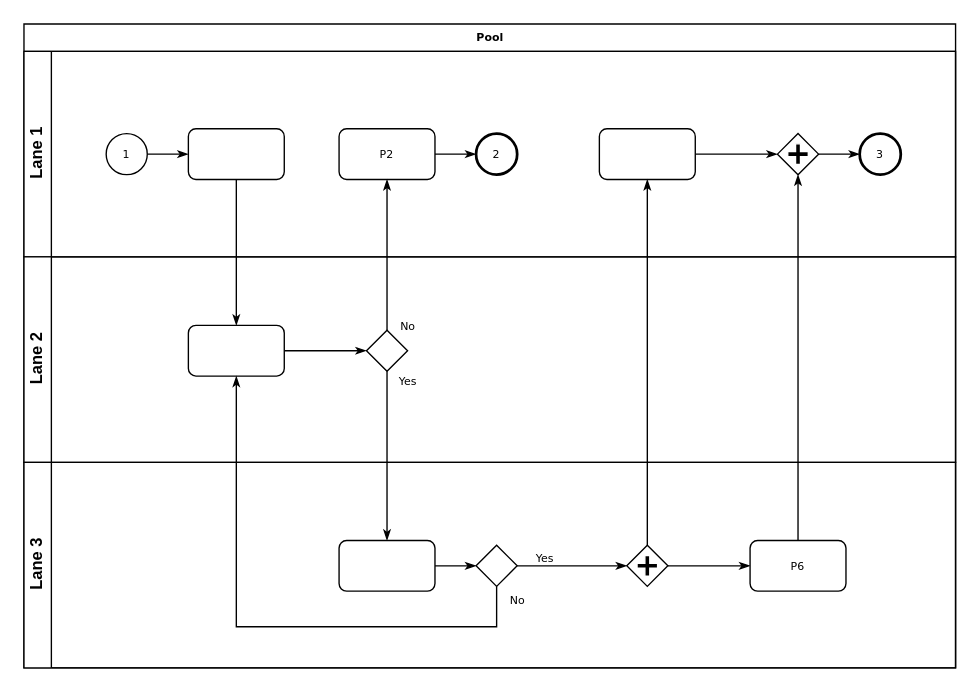
The diagram is 980 pixels wide and 692 high, and some of its shapes have lost their labels. The shapes that lost their labels are listed below. From the top down, each one's centre as x and y in pixels, then its label:
At point 235,153: "P1".
At point 646,153: "P5".
At point 235,350: "P3".
At point 386,565: "P4".
